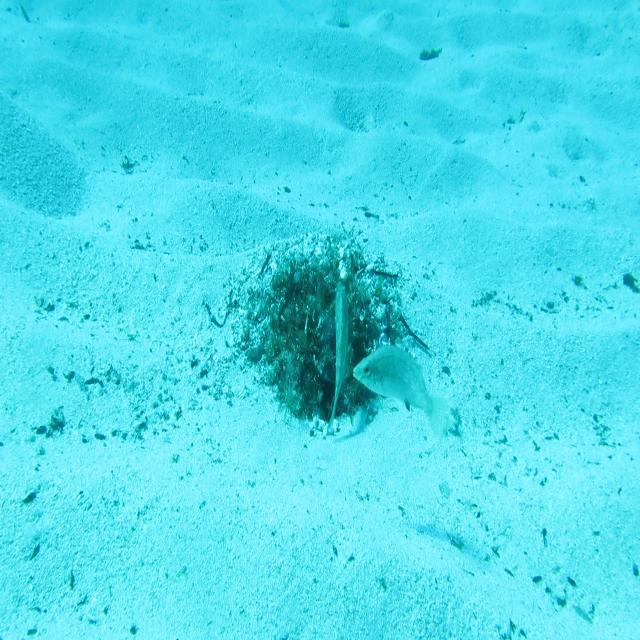FAN: (322, 278, 355, 435)
core_nest: (291, 272, 338, 305)
female: (352, 341, 451, 443)
nest: (226, 217, 424, 448)
vegetation: (418, 46, 448, 66), (623, 270, 640, 295)
